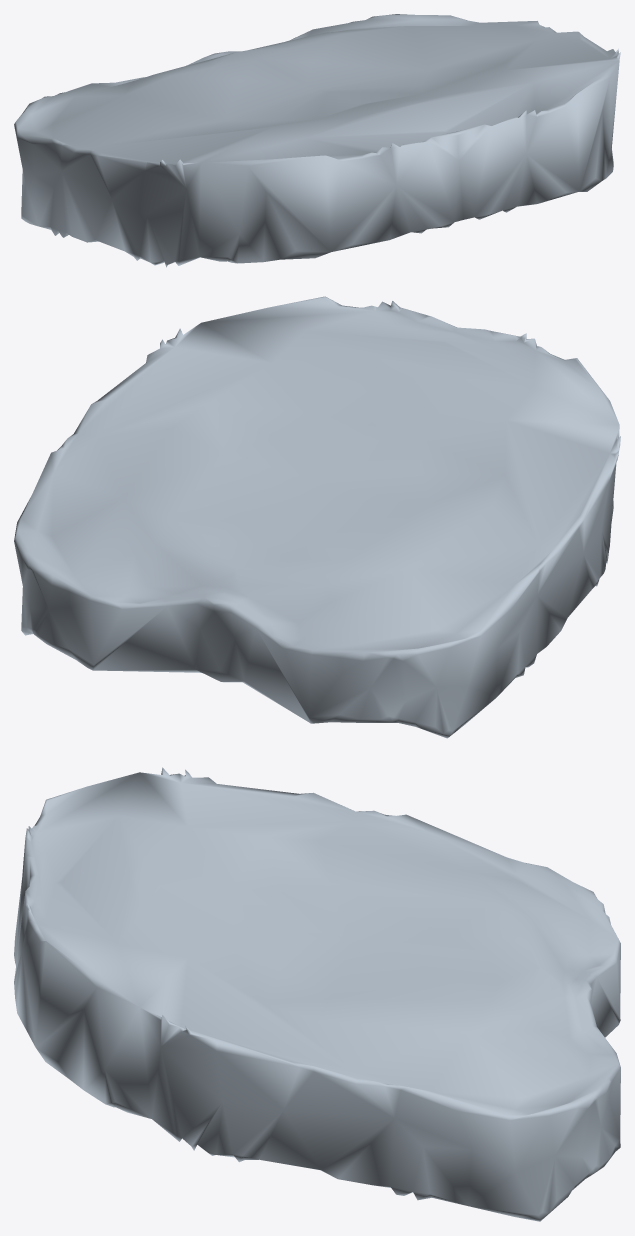
File: intervertebral-disc-t9-t10.glb
3 renders of one model, top to bottom at view 1: azimuth 30°, elevation 25°; view 2: azimuth 150°, elevation 25°; view 3: azimuth 270°, elevation 25°, orthographic. The views are drawn at different scales.
Parts seen in each view (by area): view 1: Intervertebral disc T9-T10; view 2: Intervertebral disc T9-T10; view 3: Intervertebral disc T9-T10.
Boxes of the visible parts, x1,y1,x2,y2 form: Intervertebral disc T9-T10: (14,14,620,267); Intervertebral disc T9-T10: (14,296,620,738); Intervertebral disc T9-T10: (14,767,620,1221).
Size of the model in its own units: 0.037 by 0.015 by 0.0346.
